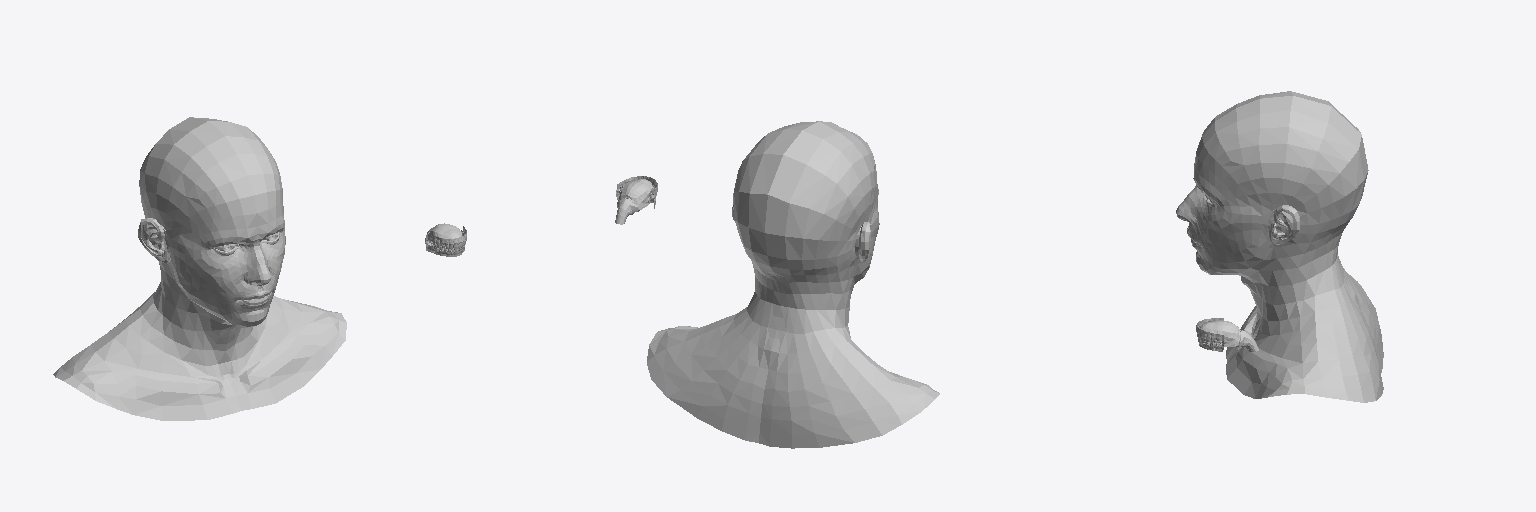
File: Head-obj.obj
The picture shows the model from 3 angles: view 1: azimuth 30°, elevation 25°; view 2: azimuth 150°, elevation 25°; view 3: azimuth 270°, elevation 25°; orthographic projection.
Parts seen in each view (by area): view 1: male, Gums01; view 2: male, Gums01; view 3: male, Gums01.
Part boxes in pixels (x1,y1,x2,y2): male: (53,117,346,420); Gums01: (425,223,466,256); male: (647,121,939,448); Gums01: (615,176,657,224); male: (1176,91,1383,402); Gums01: (1196,318,1258,351).
Bounding box in the file's own units: 56.03 × 41.79 × 28.